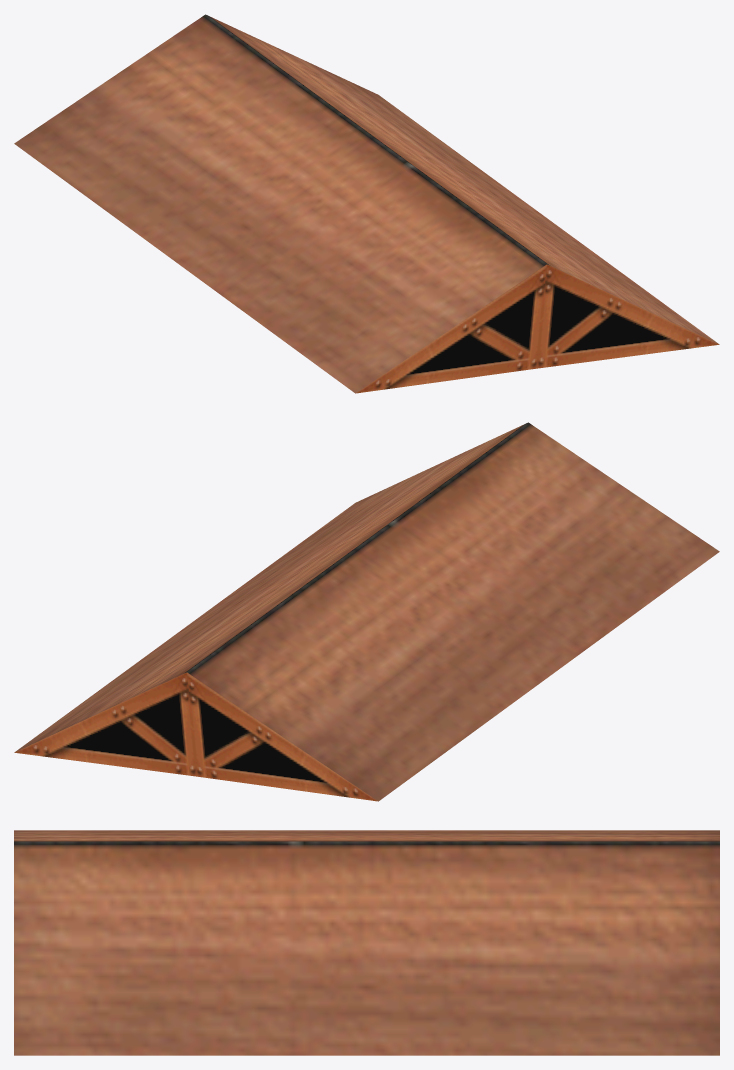
Rendered from truss.glb.
3 renders of one model, top to bottom at view 1: azimuth 30°, elevation 25°; view 2: azimuth 150°, elevation 25°; view 3: azimuth 270°, elevation 25°, orthographic. The views are drawn at different scales.
Parts seen in each view (by area): view 1: truss; view 2: truss; view 3: truss.
Part boxes in pixels (box(x1,y1,x2,y2)): truss: box(14, 14, 719, 393); truss: box(14, 422, 719, 801); truss: box(14, 830, 719, 1055).
Size of the model in its own units: 810 by 260 by 1314.
2 materials, 2 textured.
